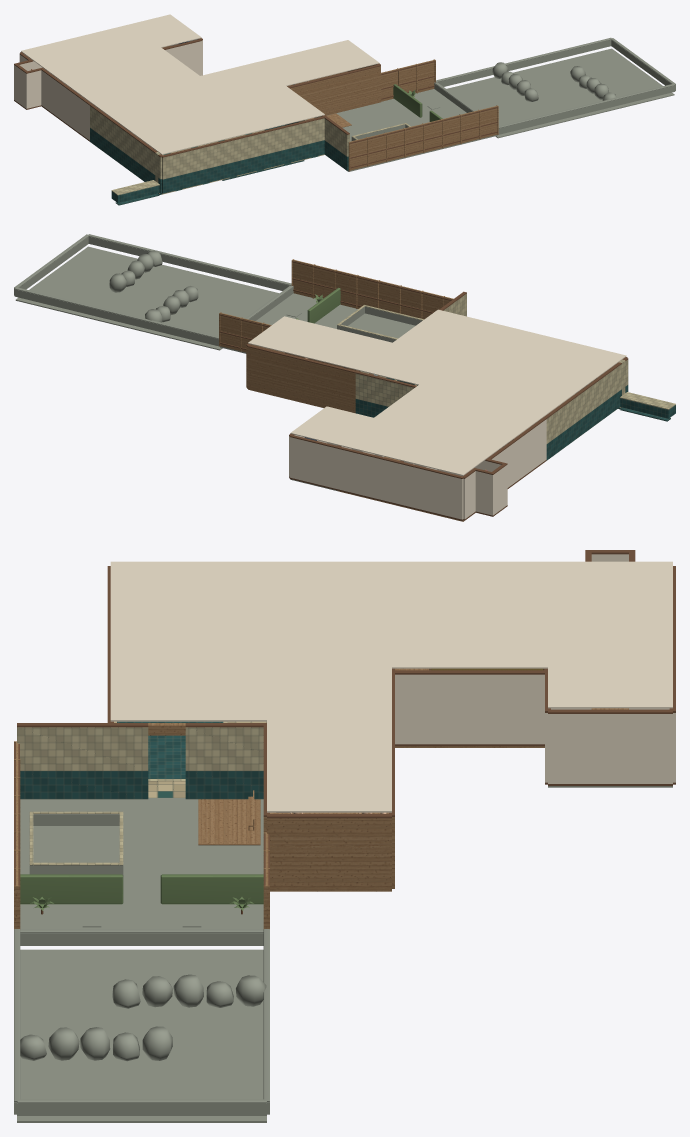
The model's file is sento_environment__v02.glb.
3 renders of one model, top to bottom at view 1: azimuth 30°, elevation 25°; view 2: azimuth 150°, elevation 25°; view 3: azimuth 270°, elevation 25°, orthographic. The views are drawn at different scales.
Parts seen in each view (by area): view 1: environment_ceiling__warm_plaster, environment_static__garden_stone, environment_upper__ceramic_cream, environment_upper__cedar, environment_static__ceramic_teal, environment_static__cedar, environment_upper__warm_plaster, environment_upper__dark_cedar, environment_static__warm_plaster, environment_static__dark_cedar, environment_static__sage_foliage, environment_ceiling__ceramic_cream (+1 smaller); view 2: environment_ceiling__warm_plaster, environment_static__garden_stone, environment_upper__warm_plaster, environment_upper__cedar, environment_static__cedar, environment_static__warm_plaster, environment_upper__ceramic_cream, environment_upper__dark_cedar, environment_static__ceramic_teal, environment_static__dark_cedar, environment_static__sage_foliage, environment_ceiling__ceramic_cream; view 3: environment_ceiling__warm_plaster, environment_static__garden_stone, environment_upper__warm_plaster, environment_upper__ceramic_cream, environment_static__ceramic_teal, environment_static__cedar, environment_static__warm_plaster, environment_upper__cedar, environment_static__sage_foliage, environment_upper__dark_cedar, environment_static__ceramic_cream.
Boxes of the visible parts, x1,y1,x2,y2 form: environment_ceiling__warm_plaster: (21,14,379,154); environment_static__garden_stone: (327,37,675,171); environment_upper__ceramic_cream: (90,106,349,179); environment_upper__cedar: (31,59,498,156); environment_static__ceramic_teal: (90,121,348,205); environment_static__cedar: (47,45,498,171); environment_upper__warm_plaster: (14,39,202,127); environment_upper__dark_cedar: (14,38,497,157); environment_static__warm_plaster: (14,44,202,140); environment_static__dark_cedar: (14,75,497,168); environment_static__sage_foliage: (393,84,442,121); environment_ceiling__ceramic_cream: (111,152,160,195); environment_ceiling__warm_plaster: (248,309,626,475); environment_static__garden_stone: (14,234,422,490); environment_upper__warm_plaster: (289,419,546,504); environment_upper__cedar: (219,259,486,470); environment_static__cedar: (219,276,544,521); environment_static__warm_plaster: (289,441,546,519); environment_upper__ceramic_cream: (355,293,628,443); environment_upper__dark_cedar: (220,261,628,478); environment_static__ceramic_teal: (355,377,675,460); environment_static__dark_cedar: (220,278,546,520); environment_static__sage_foliage: (296,287,340,323); environment_ceiling__ceramic_cream: (619,359,675,409); environment_ceiling__warm_plaster: (110,561,672,812); environment_static__garden_stone: (14,786,672,1122); environment_upper__warm_plaster: (395,554,675,757); environment_upper__ceramic_cream: (17,727,263,770); environment_static__ceramic_teal: (20,721,263,799); environment_static__cedar: (14,668,628,929); environment_static__warm_plaster: (395,718,675,783); environment_upper__cedar: (14,668,544,914); environment_static__sage_foliage: (20,874,263,910); environment_upper__dark_cedar: (14,550,675,888); environment_static__ceramic_cream: (29,721,227,865).
Size of the model in its own units: 39.3 by 3.04 by 21.2.
17 materials, 9 textured.
